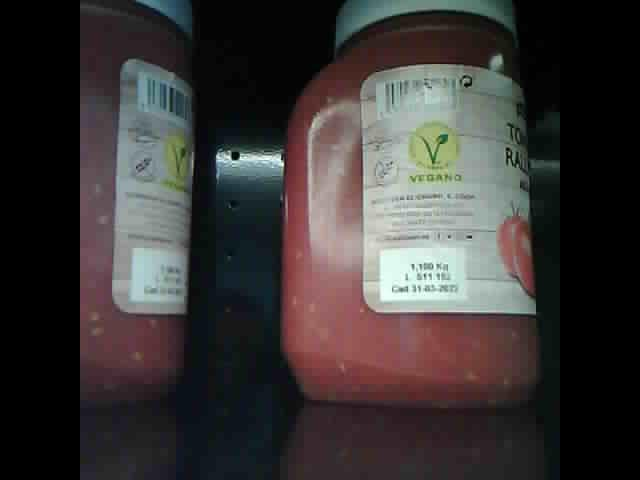tomate: (279, 4, 541, 408), (82, 2, 194, 408)
